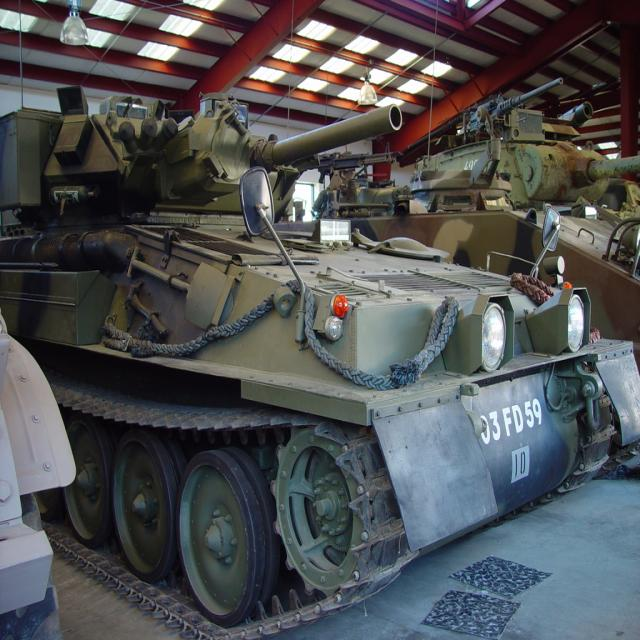tank: (0, 0, 639, 639), (311, 0, 638, 359)
